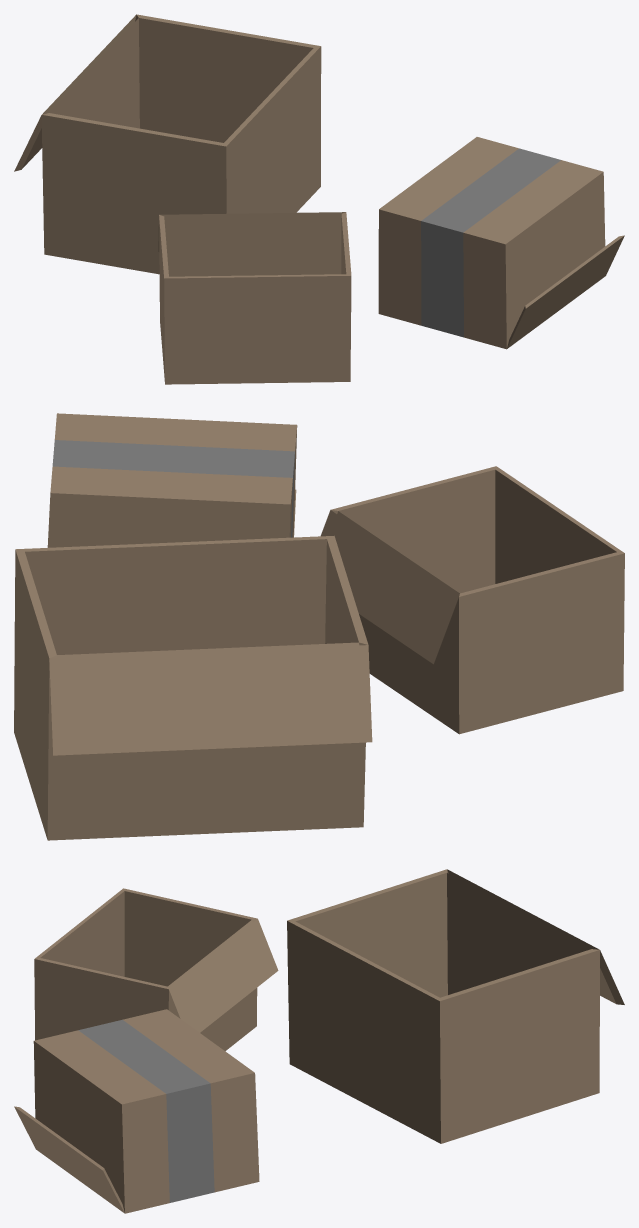
The model's file is cajas.glb.
3 views of the same model, one above another, from view 1: azimuth 30°, elevation 25°; view 2: azimuth 150°, elevation 25°; view 3: azimuth 270°, elevation 25° (orthographic). The views are drawn at different scales.
Visible parts, largest first — view 1: cajas; view 2: cajas; view 3: cajas.
Boxes of the visible parts, box(x1,y1,x2,y2) form: cajas: box(14, 14, 624, 384); cajas: box(14, 413, 624, 840); cajas: box(14, 869, 624, 1213).
Bounding box in the file's own units: 1.89 × 0.615 × 2.19.
